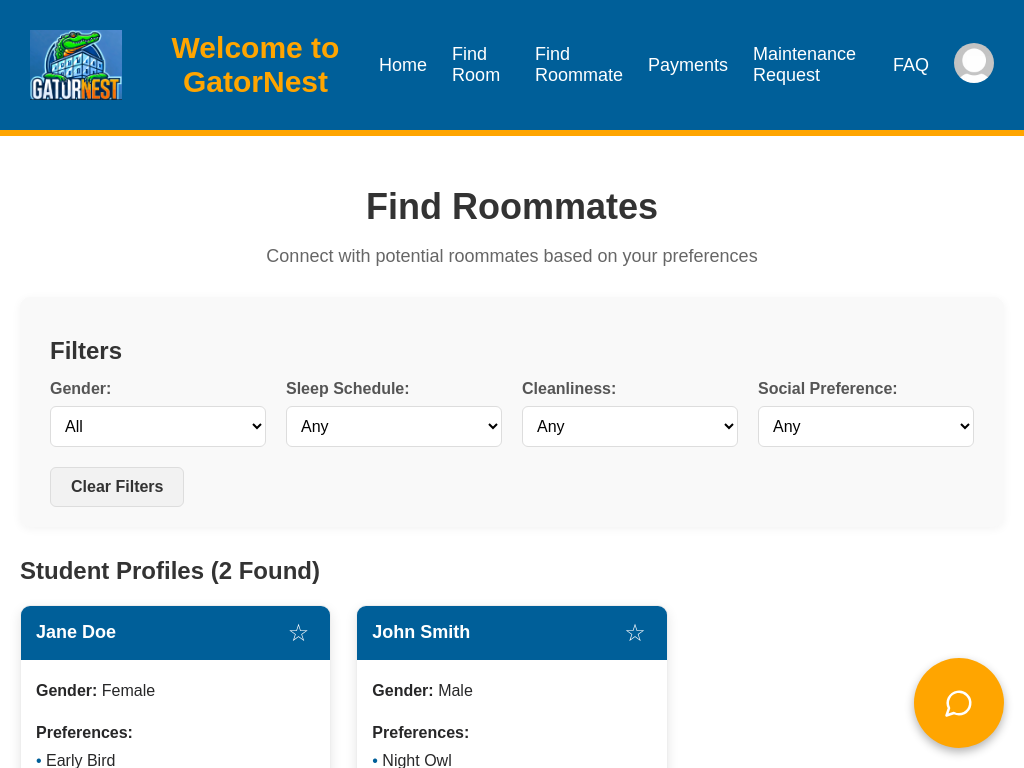
Test: Find Roommate Tests › should favorite and unfavorite a profile
Click the button with class "favorite-btn" in the row of "Jane Doe". click: click(299, 633)
box: [282,618,316,648]
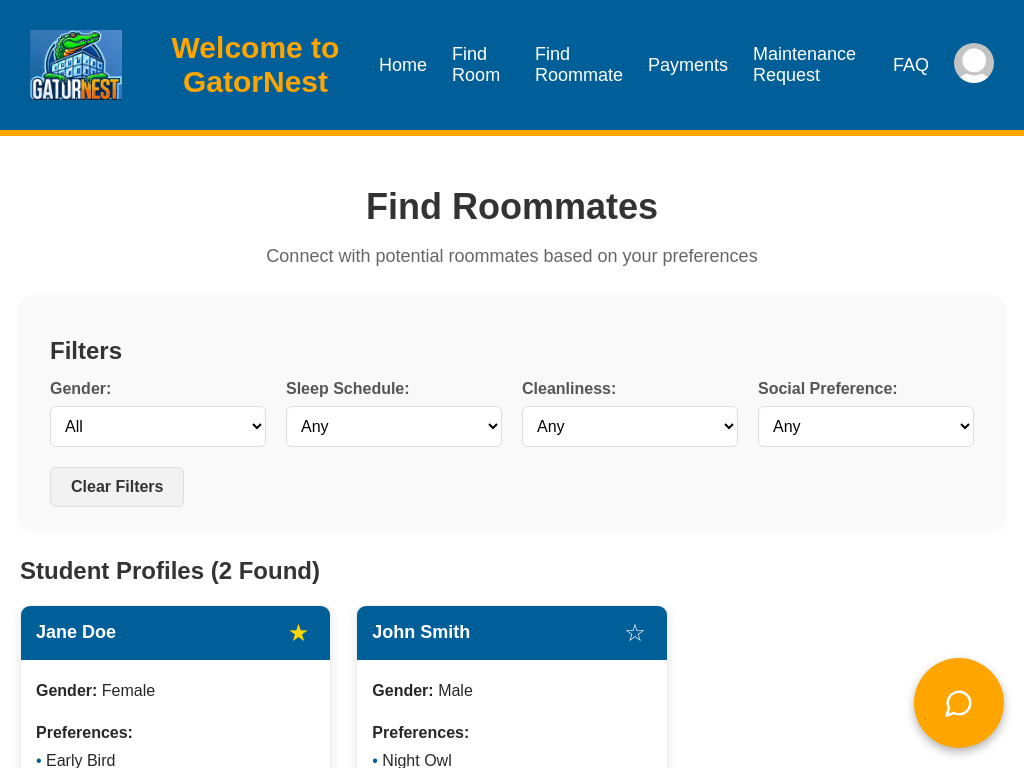
Now the button with class "favorite-btn" reads "★"
Click the button with class "favorite-btn" showing "★". click: click(299, 633)
box: [282,618,316,648]
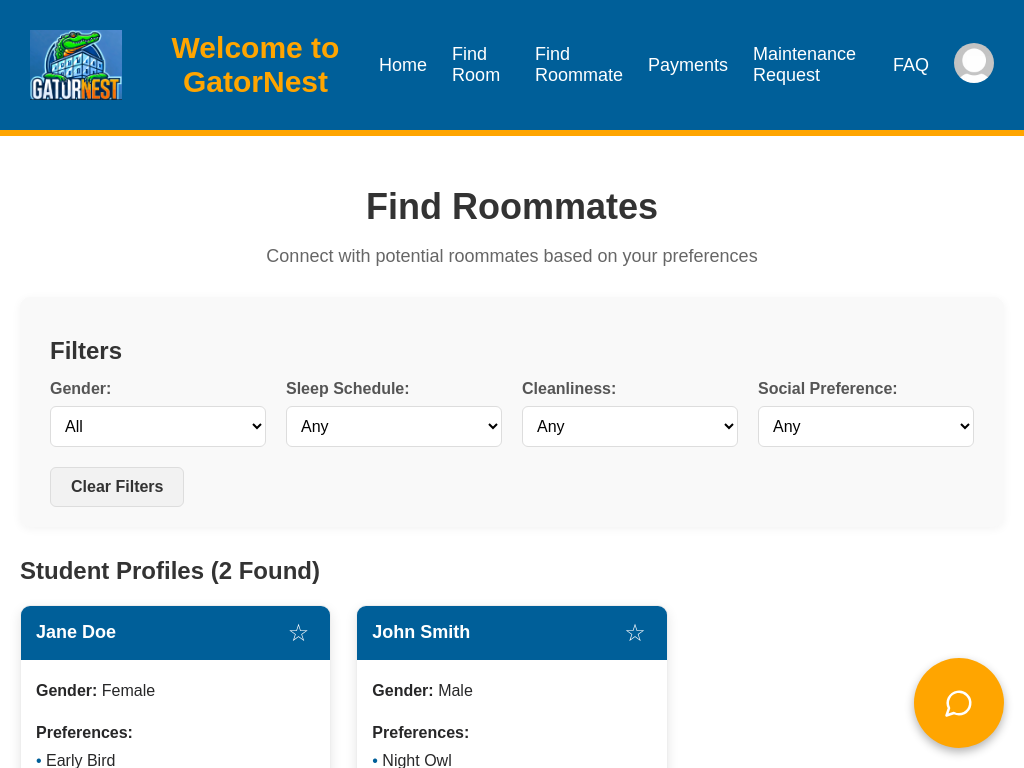
Now the button with class "favorite-btn" in the row of "Jane Doe" reads "☆", box [282,618,316,648]
